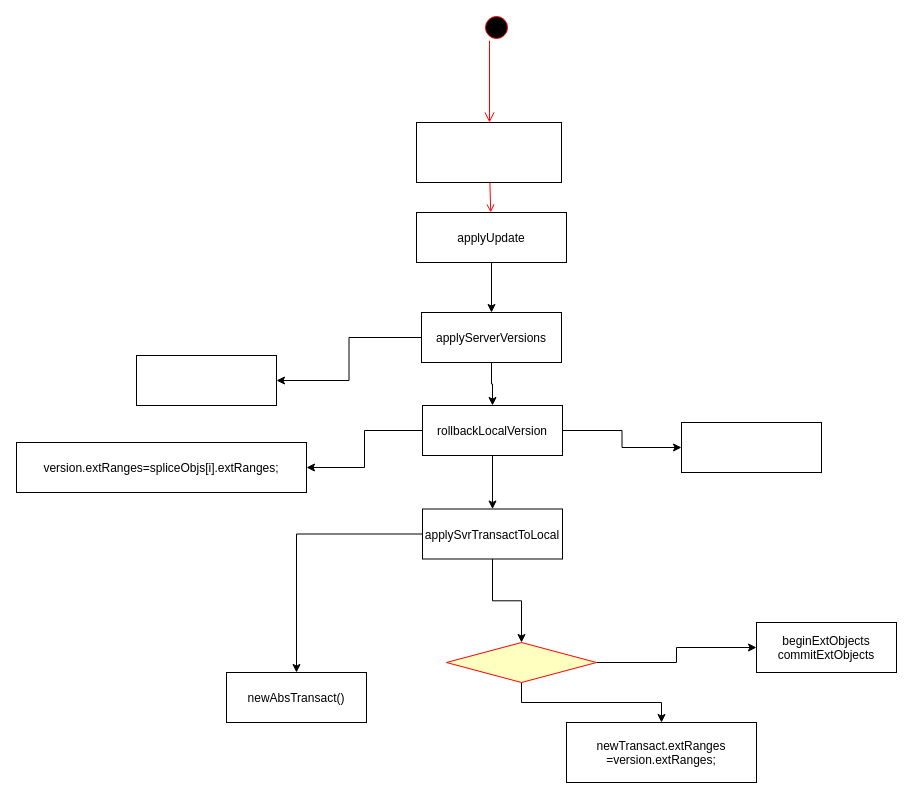
Image size: 913x799. Some labels were removed from this diagram. The box of each missing label's shape, as (x1, y1, x2, y2) in pixels:
commitExtObjects: (136, 354, 276, 406)
onCmdResponse: (416, 122, 562, 182)
undoLocalVersion: (680, 422, 822, 472)
version.extRanges: (446, 642, 596, 682)
